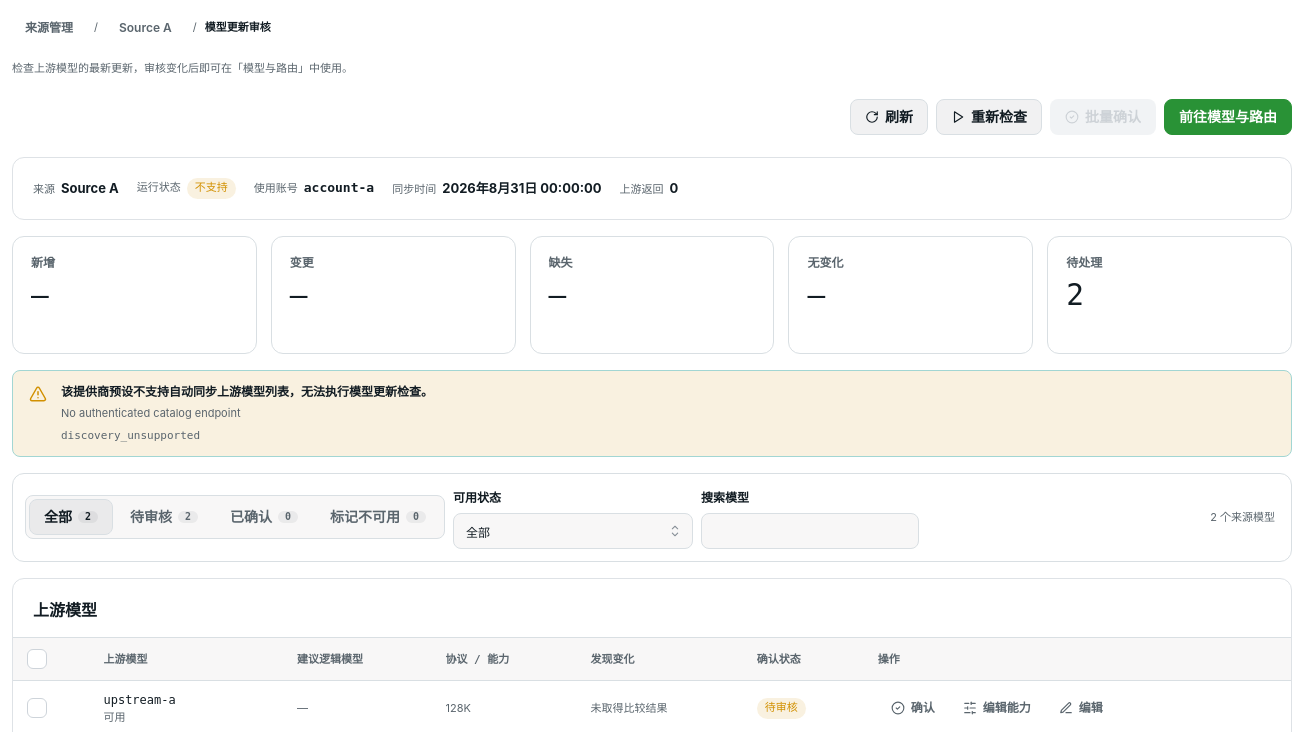
Scenario: production control-plane pages › only selects available pending discoveries and clears selection after filtering
Expected: the element named "模型更新审核筛选" is shown, 12,473 -> 1292,562
Click the checkbox named "选择全部可确认模型" at (37, 659), box 27,649 -> 47,669
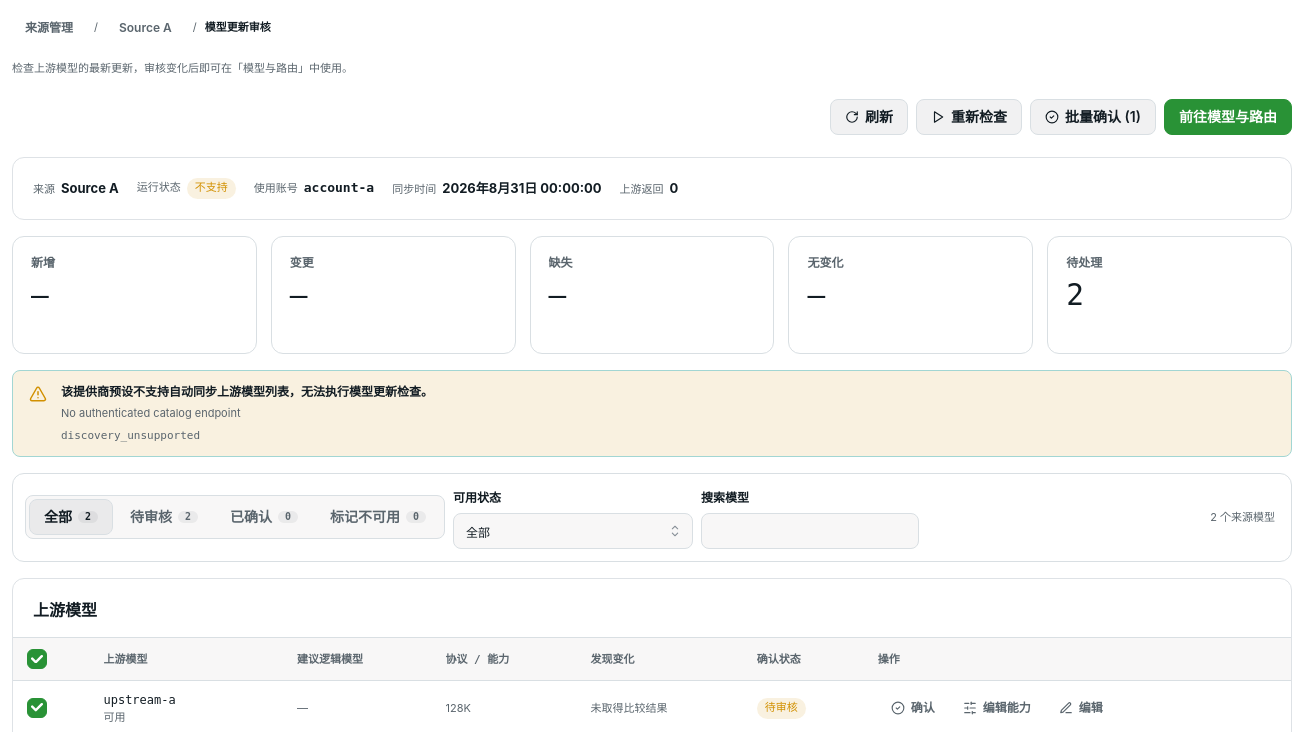
Click the dropdown labelled "可用状态" at (573, 531), box 453,513 -> 693,549
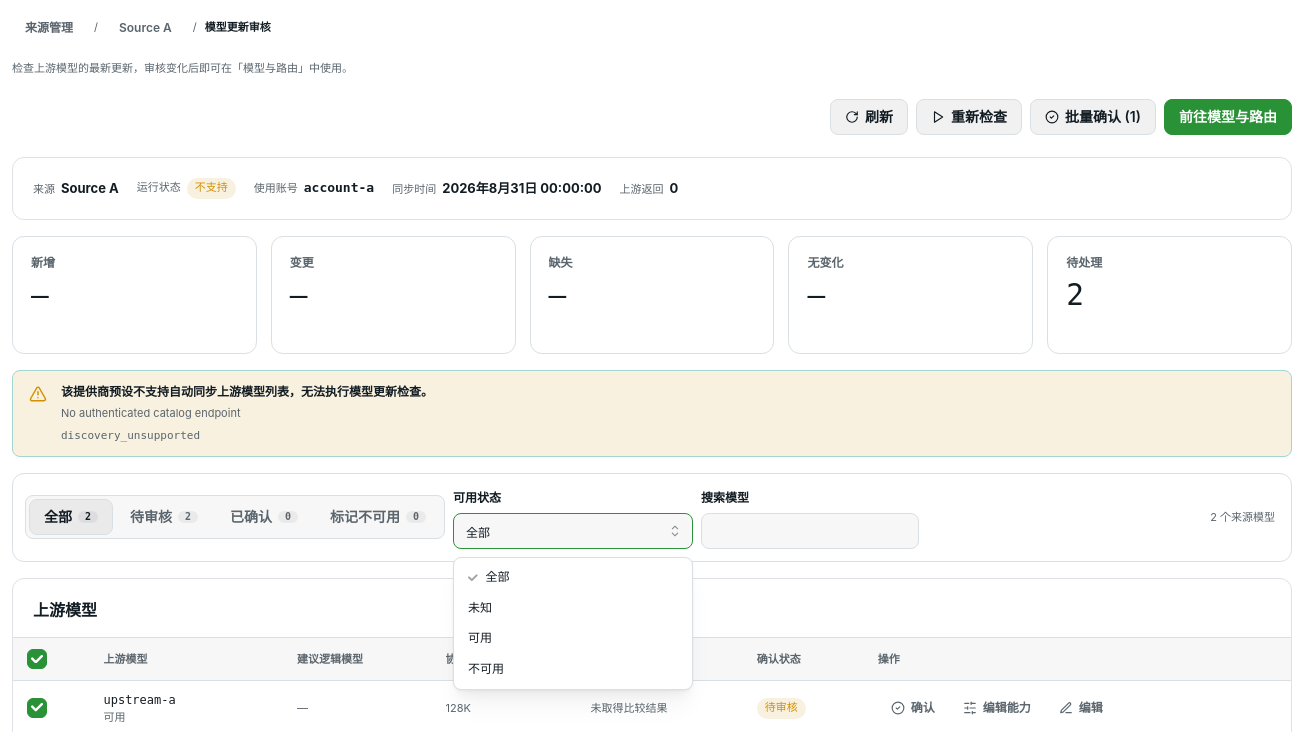
Click the option "未知" at (480, 607), box 468,600 -> 492,615
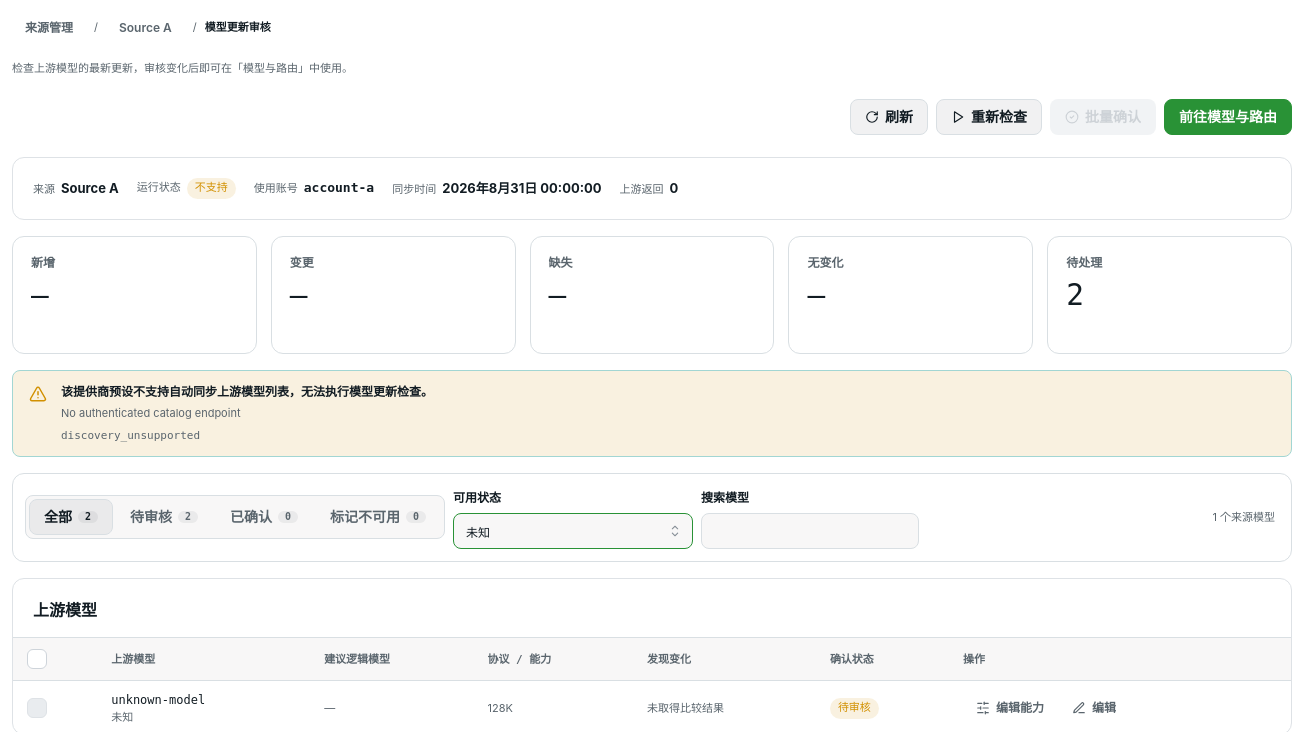
Now the checkbox named "选择全部可确认模型" is not checked, box 27,649 -> 47,669
Now the button "批量确认" is disabled, box 1050,99 -> 1156,135
